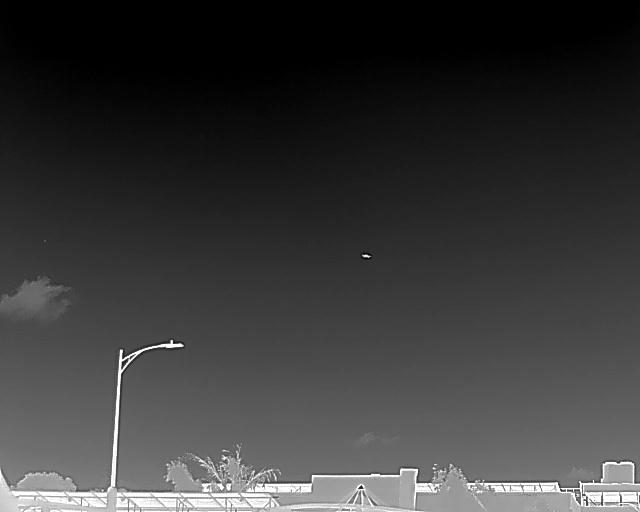fpv-drone: (361, 253, 371, 259)
